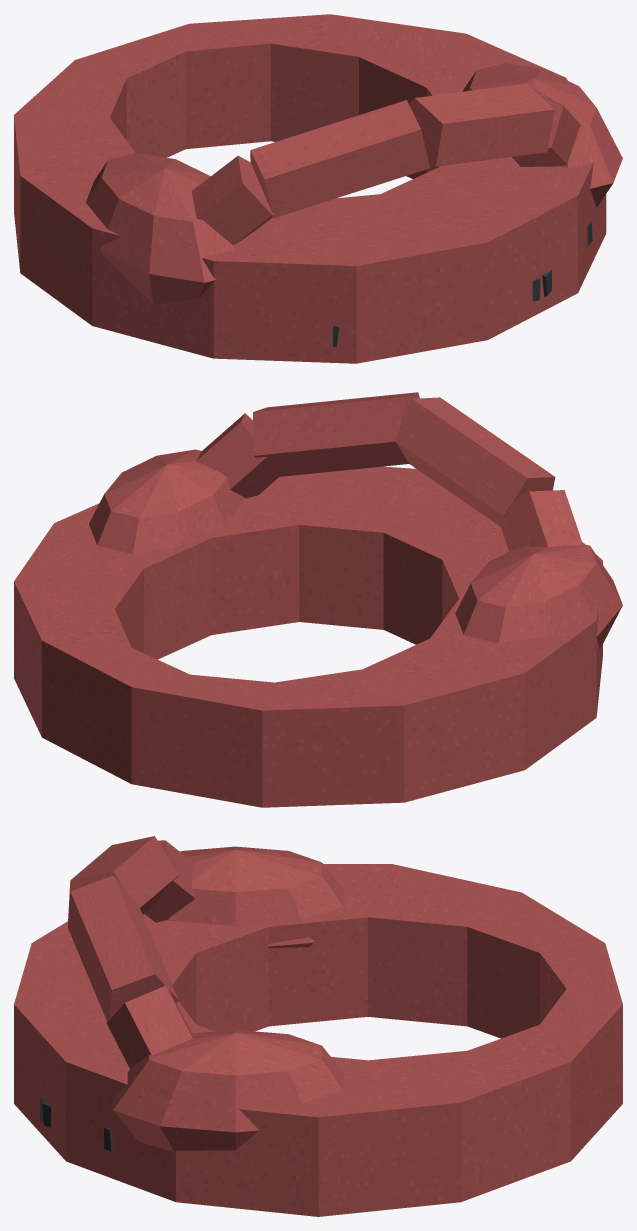
The model's file is headgear.glb.
The picture shows the model from 3 angles, top to bottom: view 1: azimuth 30°, elevation 25°; view 2: azimuth 150°, elevation 25°; view 3: azimuth 270°, elevation 25°; orthographic projection. The views are drawn at different scales.
Parts seen in each view (by area): view 1: block_thick padded shell, block_padded cheek protector (×2), block_arched crown strap 1, block_arched crown strap 2, block_arched crown strap 0, block_arched crown strap 3; view 2: block_thick padded shell, block_padded cheek protector (×2), block_arched crown strap 2, block_arched crown strap 1, block_arched crown strap 0, block_arched crown strap 3; view 3: block_thick padded shell, block_padded cheek protector (×2), block_arched crown strap 2, block_arched crown strap 1, block_arched crown strap 3, block_arched crown strap 0.
Part boxes in pixels (x1,y1,x2,y2): block_thick padded shell: (14, 14, 606, 363); block_padded cheek protector (×2): (86, 63, 622, 304); block_arched crown strap 1: (250, 100, 430, 218); block_arched crown strap 2: (409, 83, 554, 166); block_arched crown strap 0: (191, 155, 273, 244); block_arched crown strap 3: (512, 87, 581, 166); block_thick padded shell: (14, 466, 602, 807); block_padded cheek protector (×2): (89, 449, 622, 649); block_arched crown strap 2: (253, 392, 419, 477); block_arched crown strap 1: (395, 397, 555, 526); block_arched crown strap 0: (496, 490, 582, 551); block_arched crown strap 3: (196, 413, 278, 498); block_thick padded shell: (14, 864, 622, 1216); block_padded cheek protector (×2): (113, 846, 343, 1152); block_arched crown strap 2: (67, 875, 178, 1021); block_arched crown strap 1: (68, 836, 178, 922); block_arched crown strap 3: (106, 985, 192, 1068); block_arched crown strap 0: (144, 840, 195, 922).
Bounding box in the file's own units: 0.2472 × 0.0985 × 0.251.
Materials: 1 (1 with a texture image).
